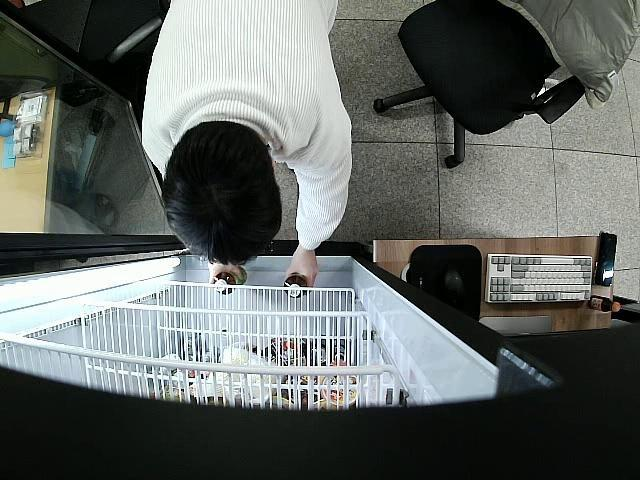19_17cha: (212, 263, 248, 293), (282, 272, 310, 299)
